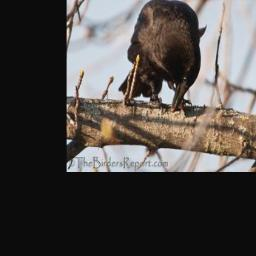Crow: (117, 0, 209, 112)
